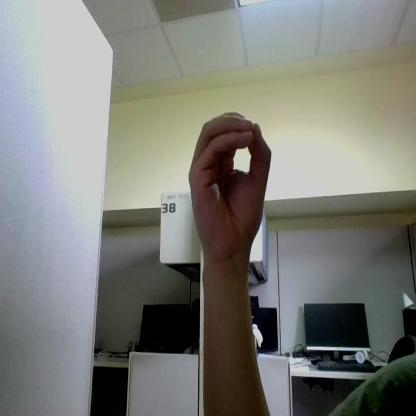O: (189, 112, 271, 258)
